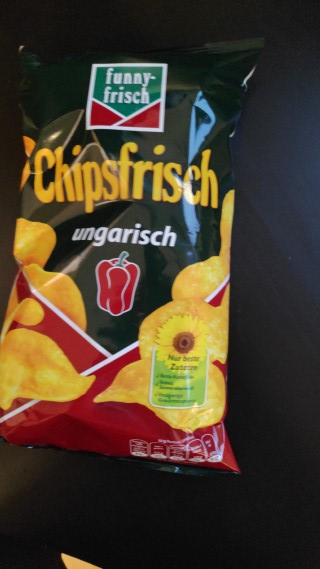chipsfrisch: (1, 39, 262, 476)
